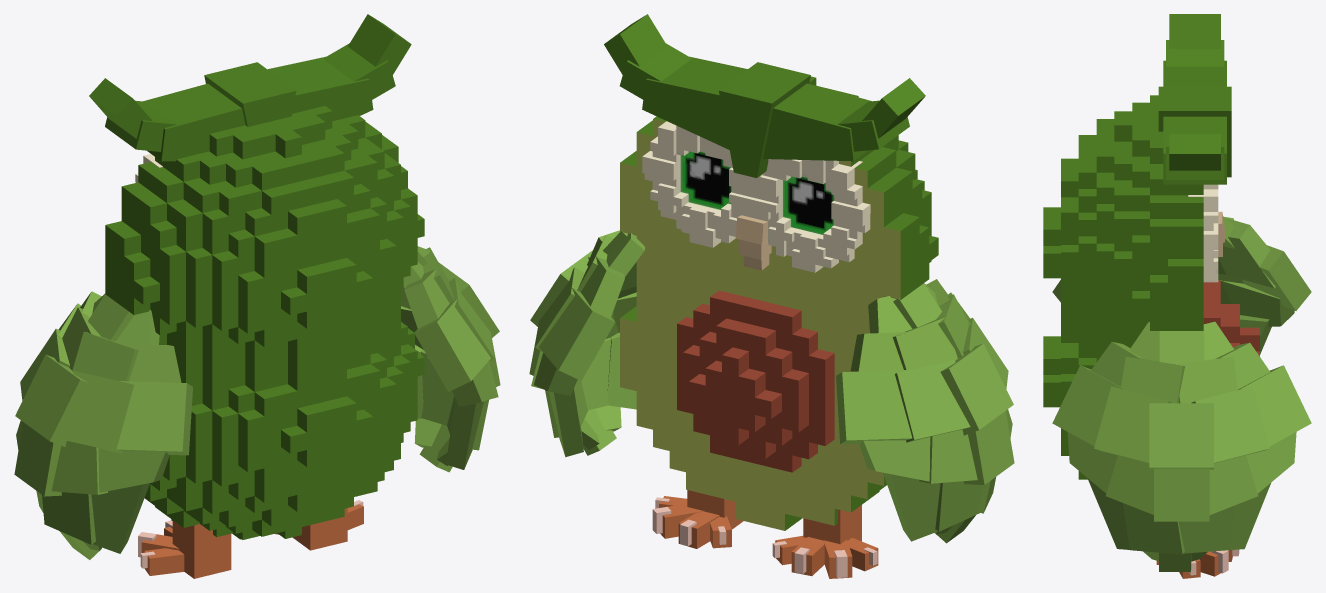
The model's file is avocadiniGuffo.fbx.
3 views of the same model, side by side, from view 1: azimuth 30°, elevation 25°; view 2: azimuth 150°, elevation 25°; view 3: azimuth 270°, elevation 25° (orthographic). The views are drawn at different scales.
Parts seen in each view (by area): view 1: avocadiniGuffo; view 2: avocadiniGuffo; view 3: avocadiniGuffo.
Boxes of the visible parts, x1,y1,x2,y2 form: avocadiniGuffo: (14, 14, 500, 578); avocadiniGuffo: (529, 14, 1014, 578); avocadiniGuffo: (1043, 14, 1311, 578).
Size of the model in its own units: 630 by 647 by 344.
